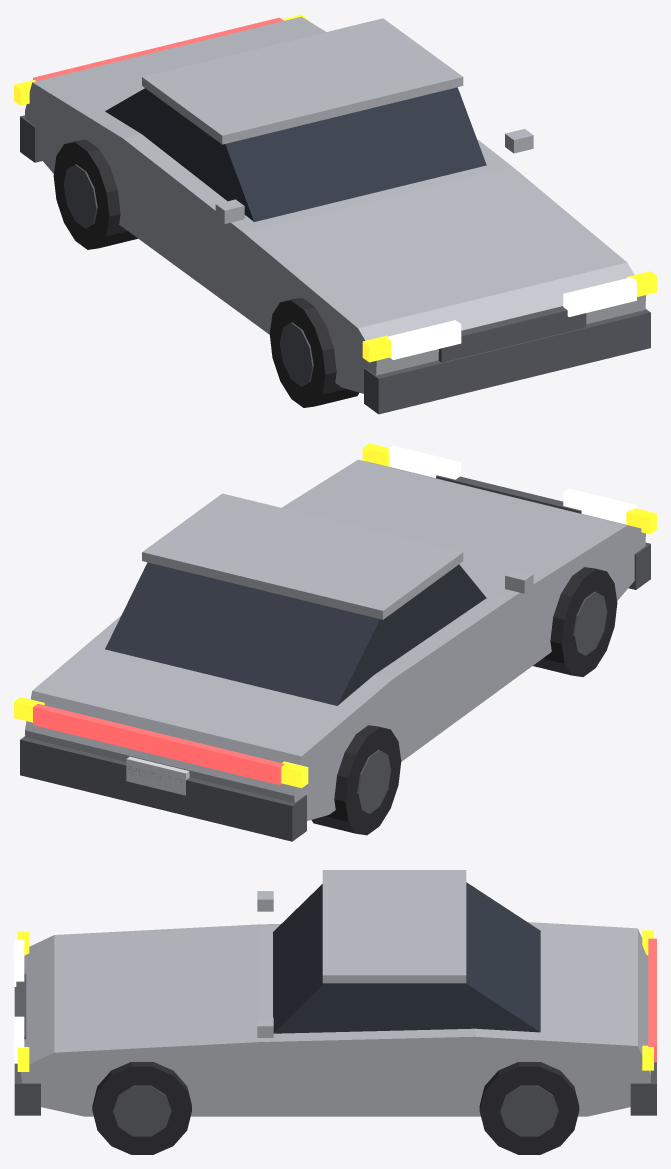
File: traffic_sedan.glb
3 views of the same model, one above another, from view 1: azimuth 30°, elevation 25°; view 2: azimuth 150°, elevation 25°; view 3: azimuth 270°, elevation 25° (orthographic). The views are drawn at different scales.
Visible parts, largest first — view 1: TrafficSedan, TrafficSedan_BlinkL; view 2: TrafficSedan, TrafficSedan_BlinkL, TrafficSedan_BlinkR; view 3: TrafficSedan, TrafficSedan_BlinkR.
Boxes of the visible parts, x1,y1,x2,y2 form: TrafficSedan: (20,16,650,414); TrafficSedan_BlinkL: (14,79,391,362); TrafficSedan: (20,445,650,841); TrafficSedan_BlinkL: (281,508,656,788); TrafficSedan_BlinkR: (14,443,389,722); TrafficSedan: (14,870,656,1154); TrafficSedan_BlinkR: (17,1045,653,1071).
Bounding box in the file's own units: 2.18 × 1.27 × 4.39.
